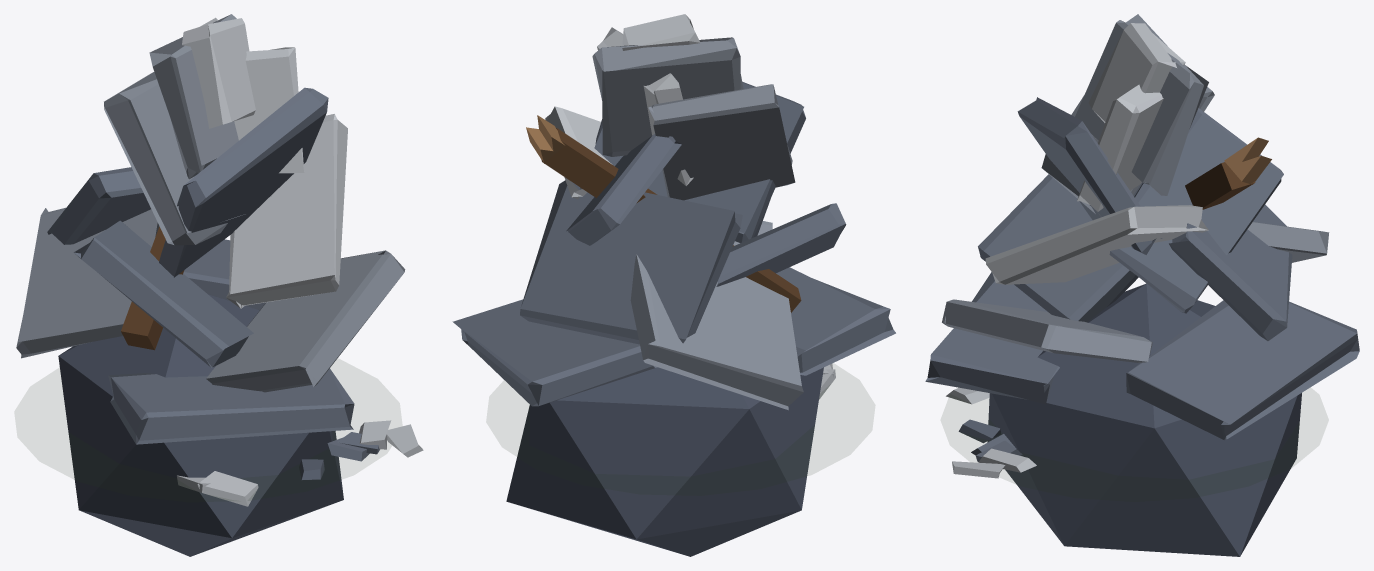
The model's file is rubble.glb.
The picture shows the model from 3 angles, left to right: view 1: azimuth 30°, elevation 25°; view 2: azimuth 150°, elevation 25°; view 3: azimuth 270°, elevation 25°; orthographic projection.
Parts seen in each view (by area): view 1: rubble; view 2: rubble; view 3: rubble.
Boxes of the visible parts, bbox=[...] form: rubble: bbox=[16, 14, 423, 556]; rubble: bbox=[452, 14, 895, 556]; rubble: bbox=[925, 14, 1359, 556].
Bounding box in the file's own units: 1.24 × 1.81 × 1.34.
